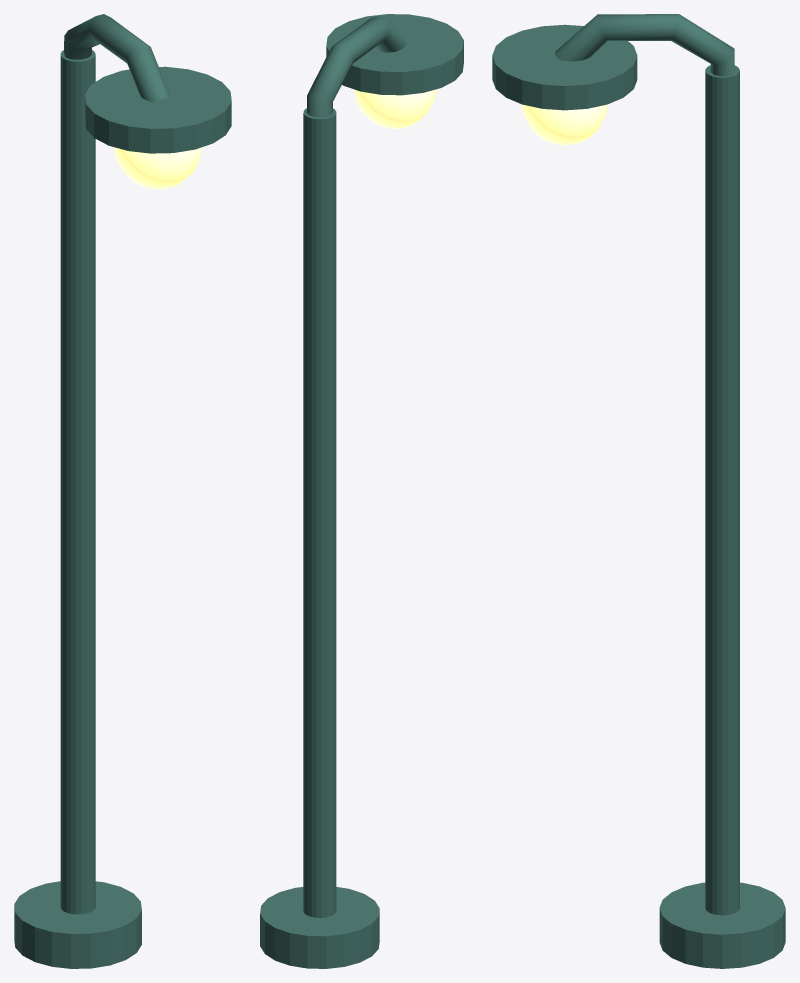
Rendered from lamppost.glb.
3 renders of one model, left to right at view 1: azimuth 30°, elevation 25°; view 2: azimuth 150°, elevation 25°; view 3: azimuth 270°, elevation 25°, orthographic. The views are drawn at different scales.
Parts seen in each view (by area): view 1: post, shade, foot, curved arm, warm lantern; view 2: post, foot, shade, curved arm, warm lantern; view 3: post, shade, foot, curved arm, warm lantern.
Boxes of the visible parts, x1,y1,x2,y2 form: post: (60, 50, 95, 914); shade: (85, 66, 231, 153); foot: (14, 881, 141, 968); curved arm: (64, 14, 170, 102); warm lantern: (114, 147, 201, 189); post: (303, 108, 336, 917); foot: (260, 887, 379, 968); shade: (326, 14, 463, 95); curved arm: (306, 16, 406, 117); warm lantern: (354, 89, 436, 128); post: (705, 65, 739, 915); shade: (492, 24, 637, 110); foot: (659, 882, 785, 968); curved arm: (555, 14, 734, 76); warm lantern: (521, 104, 607, 145).
Size of the model in its own units: 0.46 by 3.24 by 0.93.
